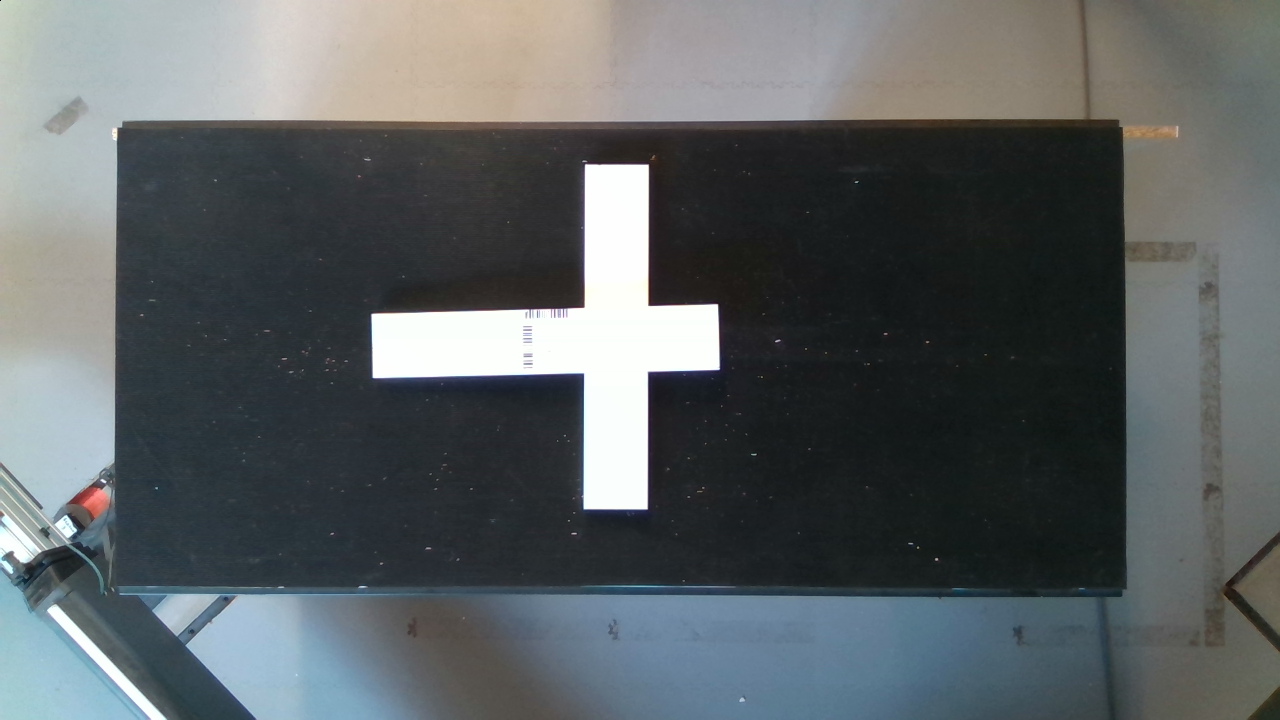barcode: (517, 299, 592, 378)
part1: (367, 299, 751, 402), (568, 149, 674, 518)
